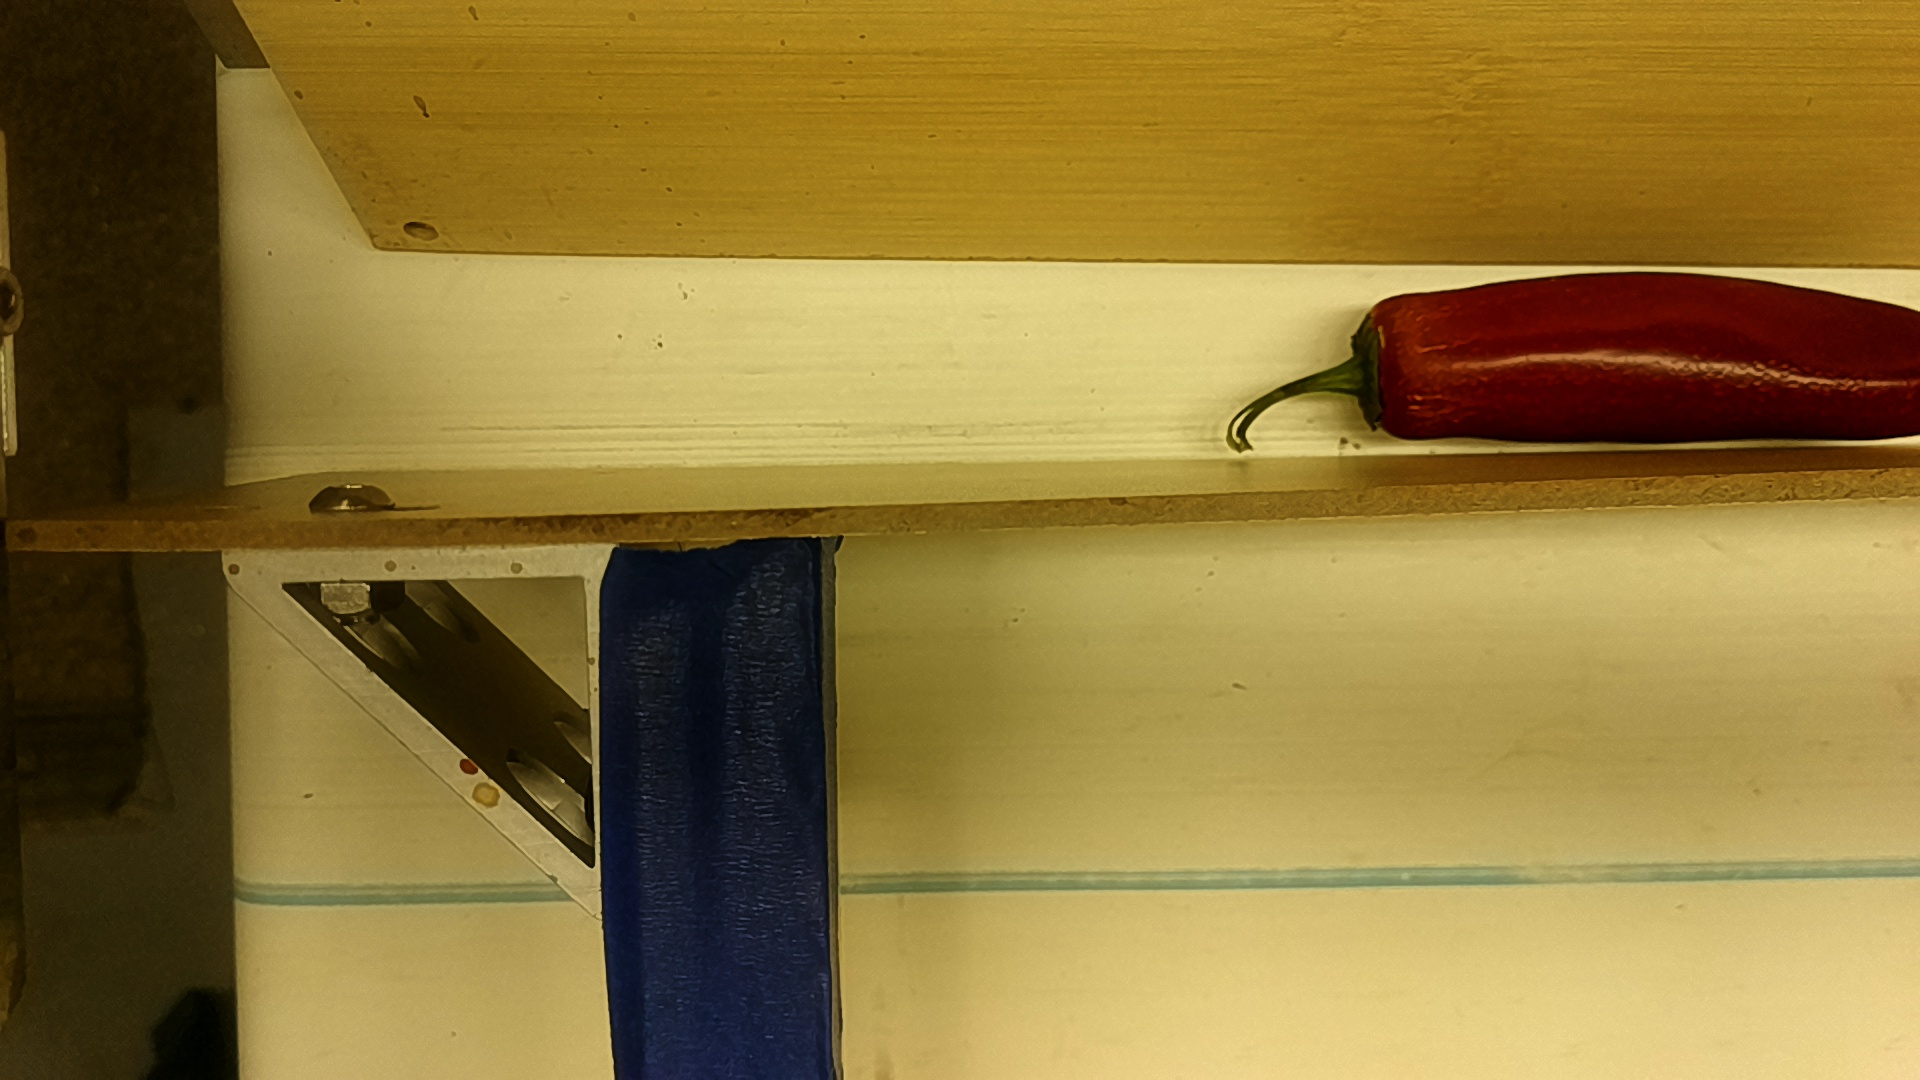Cut Point: (1342, 289, 1422, 448)
